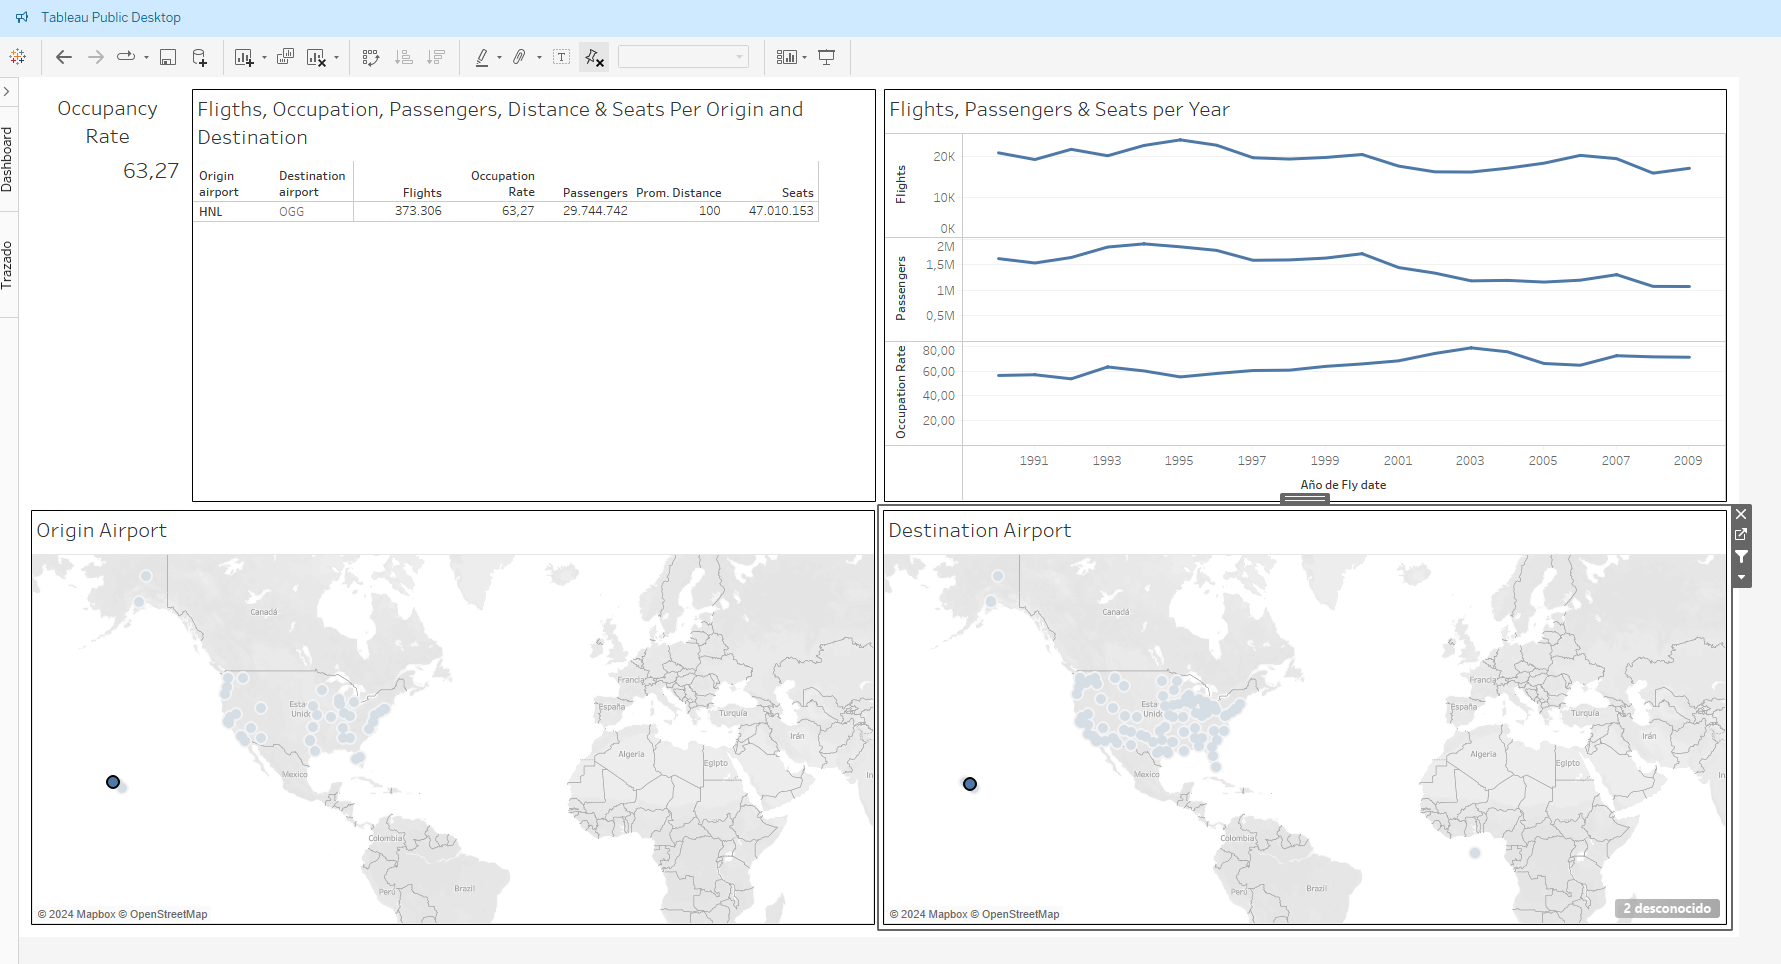

What the dashboard file says about the page in this screenshot:
{"tool":"tableau","page":{"name":"Dashboard 1","canvas":[1000,1000],"units":"permille","ordinal":0},"visuals":[{"type":"worksheet","title":"Hoja 1","mark":"Automatic","box":[4.7,9.3,93.5,490.1]},{"type":"worksheet","title":"Hoja 5 (2)","mark":"Automatic","rows":["Origin_airport","Destination_airport"],"box":[98.1,9.3,402.2,490.1]},{"type":"worksheet","title":"Hoja 4","mark":"Automatic","rows":["Flights","Passengers","Calculation_1060597729947295744"],"cols":["Fly_date"],"box":[500.3,9.3,495.1,490.1]},{"type":"worksheet","title":"Hoja 8","mark":"Automatic","box":[4.7,499.4,495.4,491.3]},{"type":"worksheet","title":"Hoja 8 (2)","mark":"Automatic","box":[500,499.4,495.4,491.3]}]}

Visuals, with their boxes on the dashboard's canvas, which has no fixed pixel size, in thousandths of its width and height (x1, y1, x2, y2). These are canvas units, not pixel positions in the 1781x964 screenshot, which may show the page scaled, cropped or inside an application window:
"Hoja 1" worksheet: 5 9 98 499
"Hoja 5 (2)" worksheet: 98 9 500 499
"Hoja 4" worksheet: 500 9 995 499
"Hoja 8" worksheet: 5 499 500 991
"Hoja 8 (2)" worksheet: 500 499 995 991
